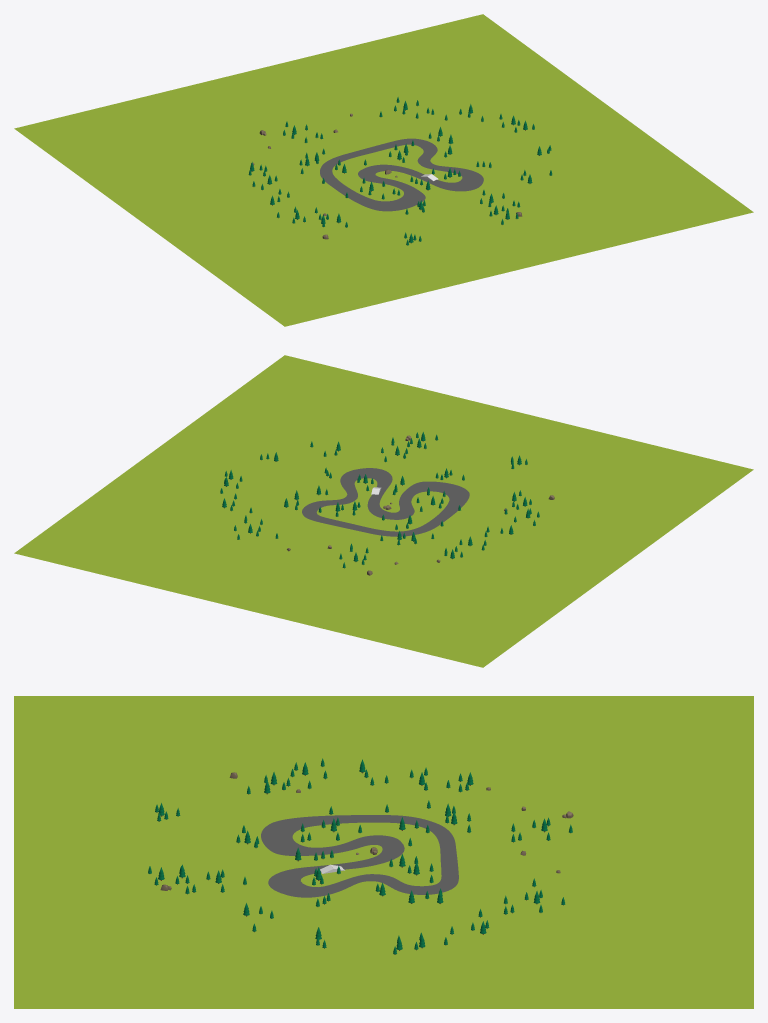
Rendered from map5.fbx.
3 views of the same model, one above another, from view 1: azimuth 30°, elevation 25°; view 2: azimuth 150°, elevation 25°; view 3: azimuth 270°, elevation 25° (orthographic). The views are drawn at different scales.
Parts seen in each view (by area): view 1: 0grass, Curve; view 2: 0grass, Curve; view 3: 0grass, Curve.
Part boxes in pixels (x1,y1,x2,y2): 0grass: (14,14,753,326); Curve: (320,138,483,211); 0grass: (14,355,753,667); Curve: (302,468,469,536); 0grass: (14,696,753,1008); Curve: (261,815,458,897).
Size of the model in its own units: 441 by 441 by 11.73.
